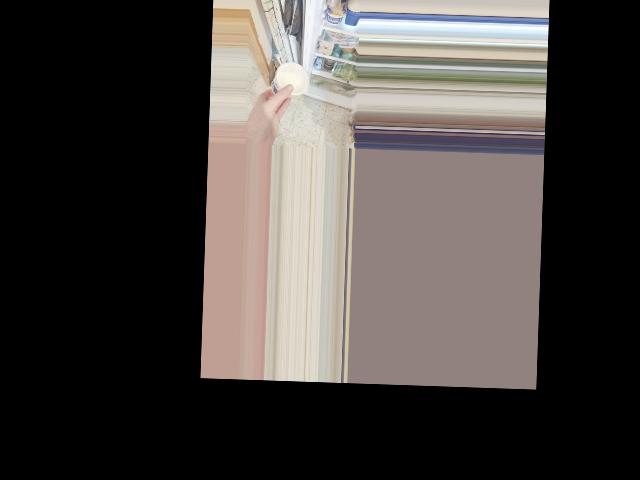cotage: (268, 59, 309, 99)
